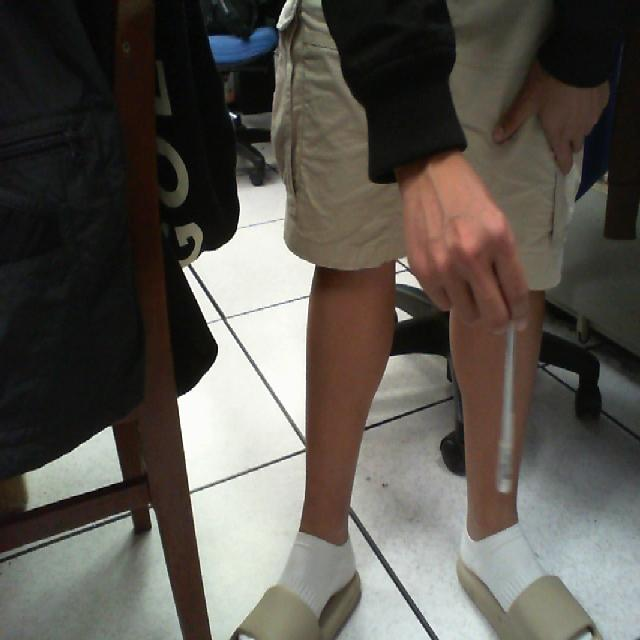Pen: (486, 297, 533, 527)
